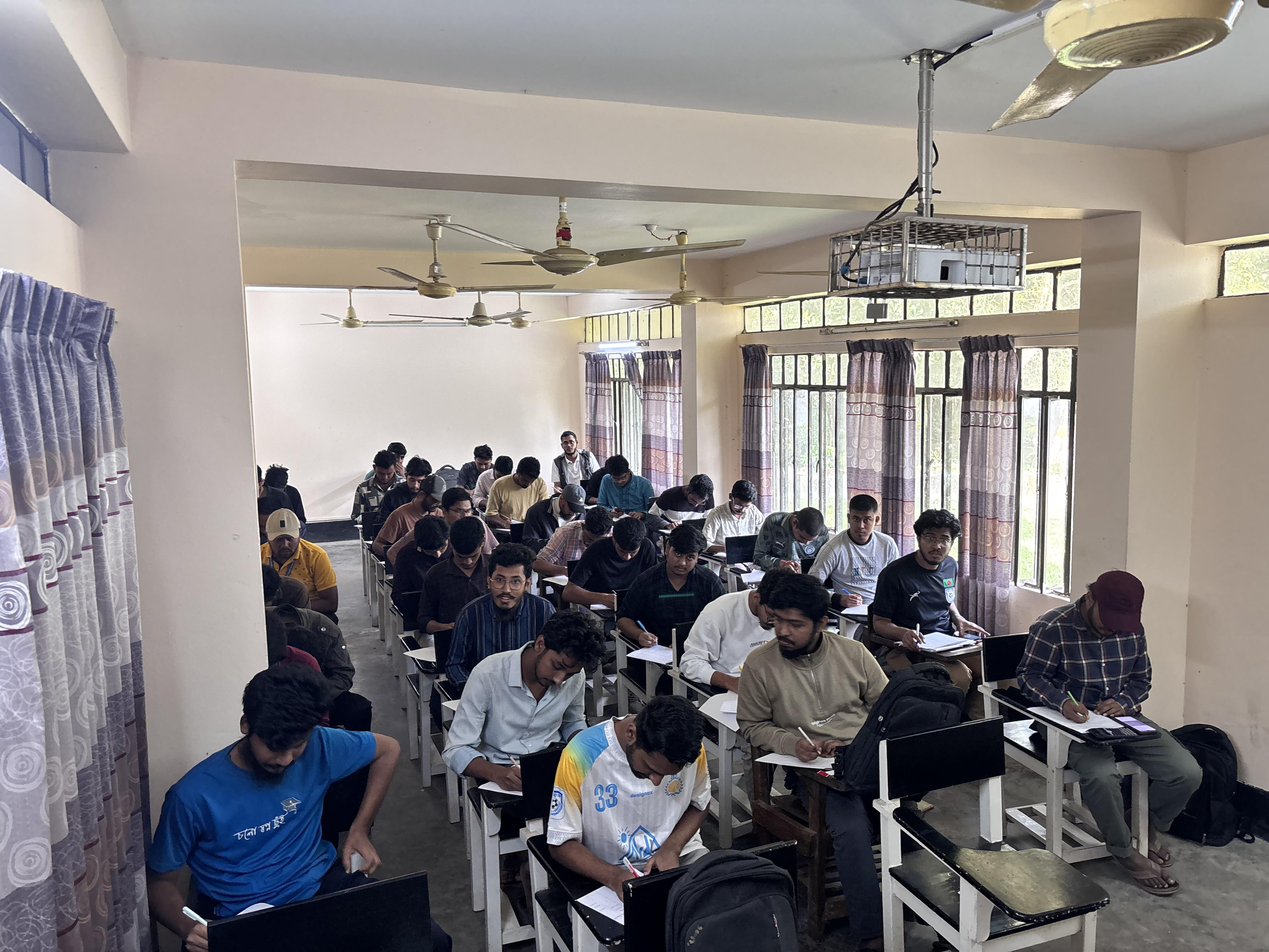copying: (752, 588, 867, 794)
no_cheating: (175, 672, 374, 919), (568, 690, 725, 928), (497, 613, 600, 790), (821, 493, 890, 622), (583, 522, 662, 625), (646, 529, 714, 642), (475, 547, 543, 642), (760, 506, 831, 567), (539, 480, 593, 537), (665, 472, 715, 531), (718, 479, 764, 541), (267, 504, 310, 560), (549, 425, 591, 481), (447, 516, 486, 576), (415, 513, 450, 578), (576, 507, 622, 551), (361, 451, 399, 502), (504, 459, 537, 517), (406, 475, 446, 512), (440, 488, 473, 521), (471, 441, 494, 477)
using_phone: (1025, 566, 1164, 776), (906, 509, 991, 673), (598, 453, 644, 524)
